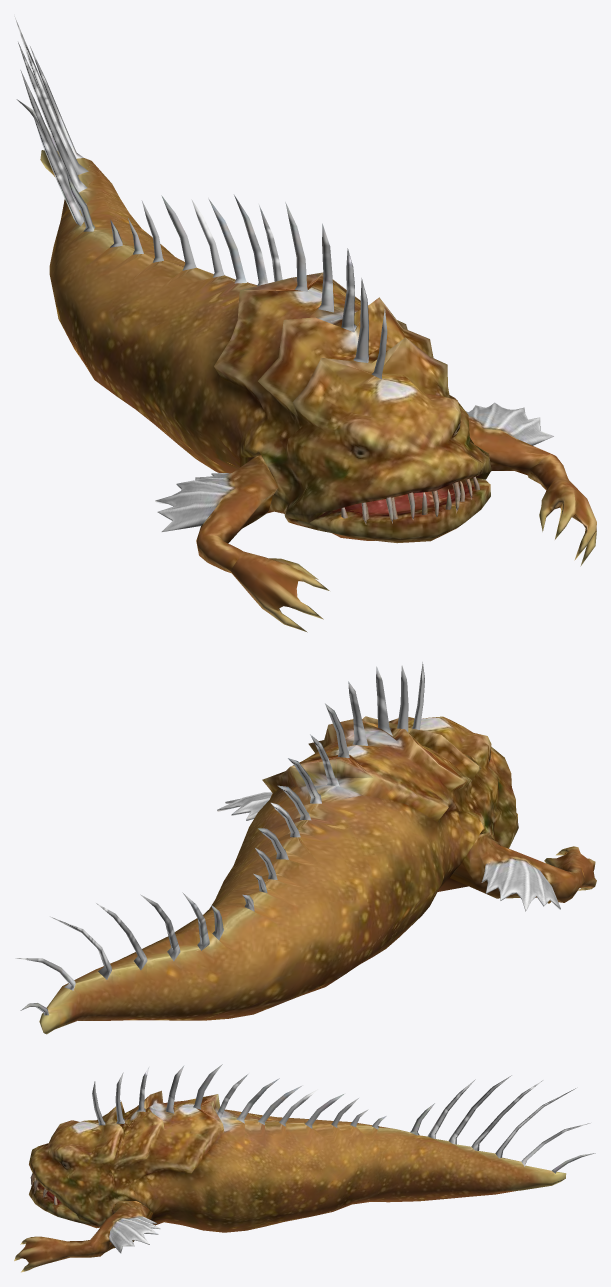
The model's file is 219-leviathan.glb.
3 renders of one model, top to bottom at view 1: azimuth 30°, elevation 25°; view 2: azimuth 150°, elevation 25°; view 3: azimuth 270°, elevation 25°, orthographic. The views are drawn at different scales.
Size of the model in its own units: 4.11 by 3 by 8.93.
Materials: 1 (1 with a texture image).
